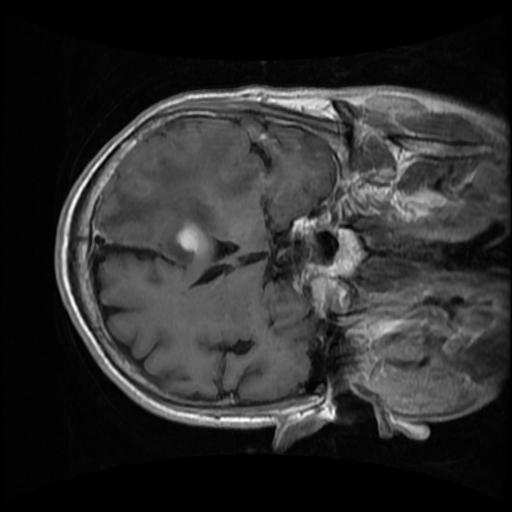glioma: (99, 127, 256, 264)
